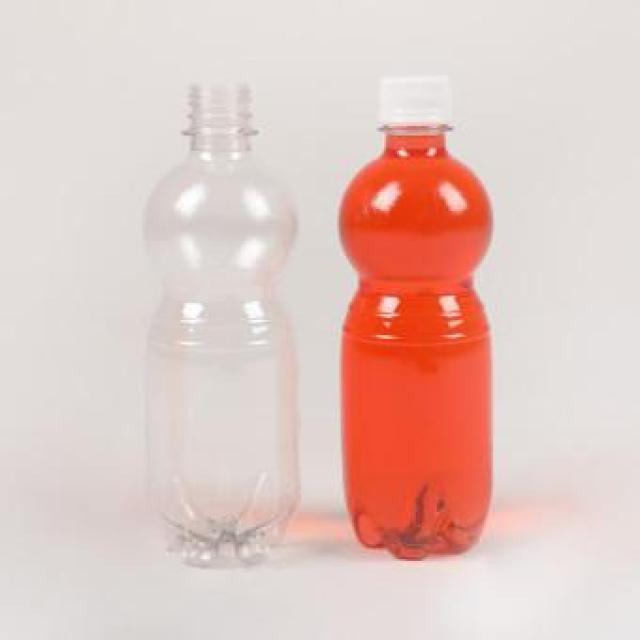bottle: (337, 77, 491, 563), (145, 83, 297, 566)
